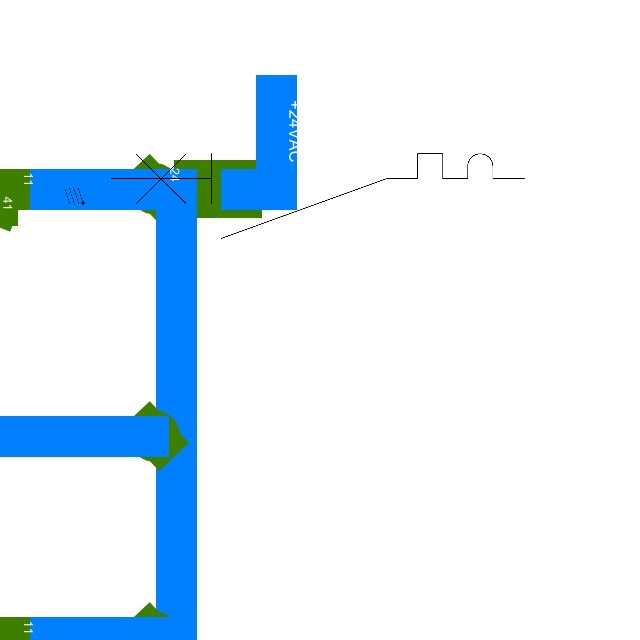interruptor_termomagnetico: (100, 143, 535, 249)
